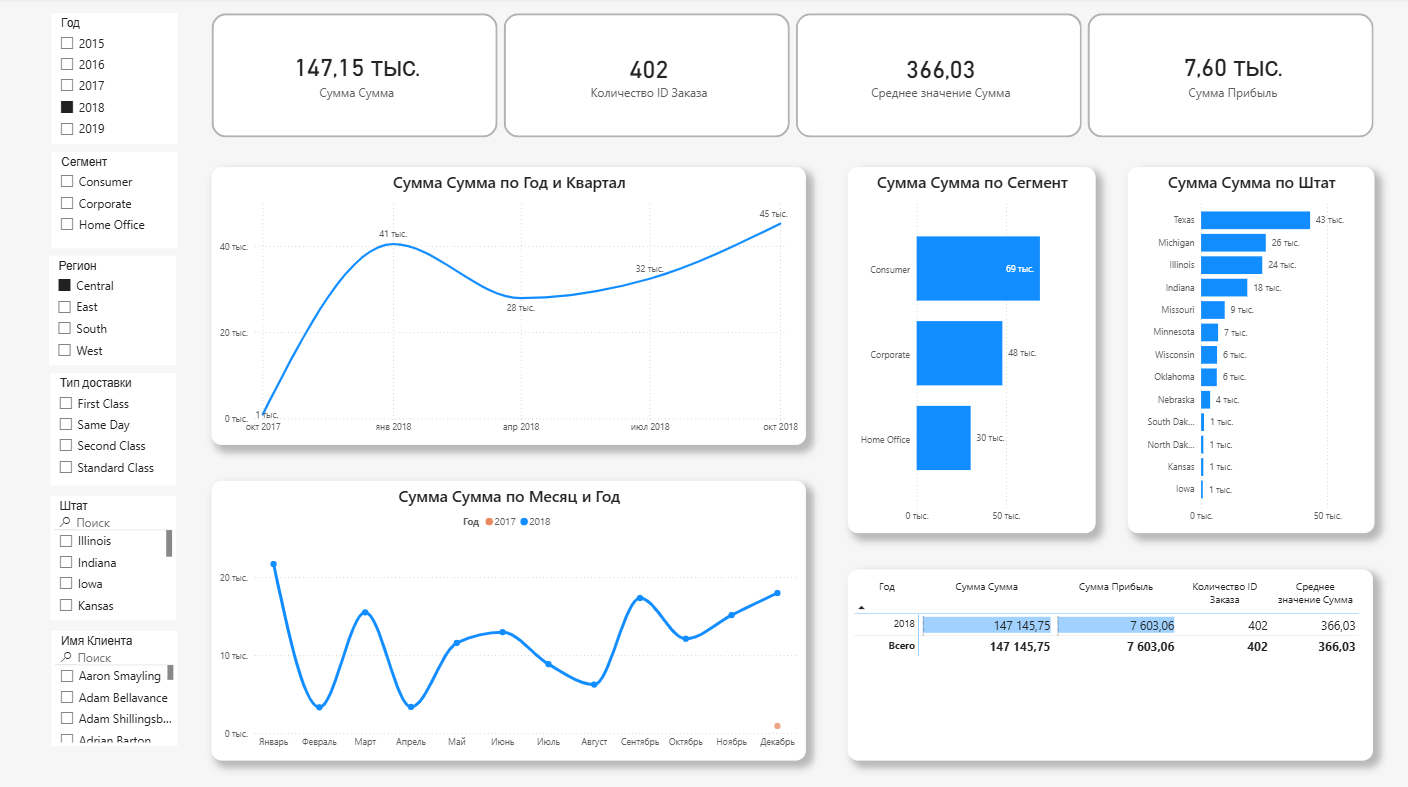

The dashboard page shown, as its layout file describes it:
{"tool":"powerbi","page":{"name":"Страница 1","canvas":[1920,1080],"ordinal":0},"visuals":[{"type":"cardVisual","fields":{"Data":["Sum(Продажи.Сумма)","CountNonNull(Продажи.ID Заказа)","Avg(Продажи.Сумма)","Sum(Продажи.Прибыль)"]},"box":[294,22,1574,168],"z":0},{"type":"clusteredBarChart","fields":{"Category":["Продажи.Сегмент"],"Y":["Sum(Продажи.Сумма)"]},"box":[1155.4,230.8,335.4,495.4],"z":1000},{"type":"lineChart","fields":{"Category":["Продажи.Дата покупки.Изменение.Иерархия дат.Месяц"],"Y":["Sum(Продажи.Сумма)"],"Series":["Продажи.Дата покупки.Изменение.Иерархия дат.Год"]},"box":[294,654,804,378],"z":2000},{"type":"lineChart","fields":{"Category":["Продажи.Дата покупки.Изменение.Иерархия дат.Год","Продажи.Дата покупки.Изменение.Иерархия дат.Квартал","Продажи.Дата покупки.Изменение.Иерархия дат.Месяц","Продажи.Дата покупки.Изменение.Иерархия дат.День"],"Y":["Sum(Продажи.Сумма)"]},"box":[294,230,804,376],"z":3000},{"type":"slicer","fields":{"Values":["Продажи.Регион"]},"box":[74,349.2,172,148],"z":4000},{"type":"slicer","fields":{"Values":["Продажи.Сегмент"]},"box":[78,209.2,170,130],"z":5000},{"type":"slicer","fields":{"Values":["Продажи.Штат"]},"box":[76,675.2,170,168],"z":6000},{"type":"slicer","fields":{"Values":["Продажи.Тип доставки"]},"box":[76,509.2,170,152],"z":7000},{"type":"slicer","fields":{"Values":["Продажи.Имя Клиента"]},"box":[78,857.2,170,156],"z":8000},{"type":"clusteredBarChart","fields":{"Category":["Продажи.Штат"],"Y":["Sum(Продажи.Сумма)"]},"box":[1533.8,230.8,333.8,495.4],"z":9000},{"type":"pivotTable","fields":{"Rows":["Продажи.Дата доставки.Изменение.Иерархия дат.Год"],"Values":["Sum(Продажи.Сумма)","Sum(Продажи.Прибыль)","Count(Продажи.ID Заказа)","Avg(Продажи.Сумма)"]},"box":[1155.4,773.8,710.8,258.5],"z":10000},{"type":"slicer","fields":{"Values":["Продажи.Дата доставки.Изменение.Иерархия дат.Год"]},"box":[77.8,22.2,170.4,176.5],"z":11000}]}

Visuals, with their boxes in screenshot pixels (x1, y1, x2, y2), scaled from the page's 1920x1080 canvas onto the 1408x787 screenshot:
cardVisual - Sum(Продажи.Сумма) x CountNonNull(Продажи.ID Заказа): Rect(216, 16, 1370, 138)
clusteredBarChart - Продажи.Сегмент x Sum(Продажи.Сумма): Rect(847, 168, 1093, 529)
lineChart - Продажи.Дата покупки.Изменение.Иерархия дат.Месяц x Sum(Продажи.Сумма): Rect(216, 477, 805, 752)
lineChart - Продажи.Дата покупки.Изменение.Иерархия дат.Год x Продажи.Дата покупки.Изменение.Иерархия дат.Квартал: Rect(216, 168, 805, 442)
slicer - Продажи.Регион: Rect(54, 254, 180, 362)
slicer - Продажи.Сегмент: Rect(57, 152, 182, 247)
slicer - Продажи.Штат: Rect(56, 492, 180, 614)
slicer - Продажи.Тип доставки: Rect(56, 371, 180, 482)
slicer - Продажи.Имя Клиента: Rect(57, 625, 182, 738)
clusteredBarChart - Продажи.Штат x Sum(Продажи.Сумма): Rect(1125, 168, 1370, 529)
pivotTable - Продажи.Дата доставки.Изменение.Иерархия дат.Год x Sum(Продажи.Сумма): Rect(847, 564, 1369, 752)
slicer - Продажи.Дата доставки.Изменение.Иерархия дат.Год: Rect(57, 16, 182, 145)
